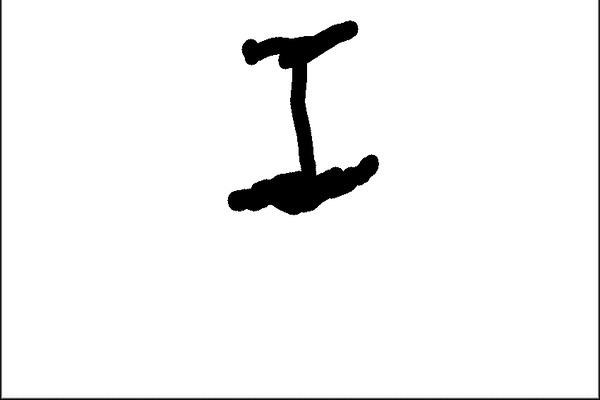i: (218, 18, 387, 221)
